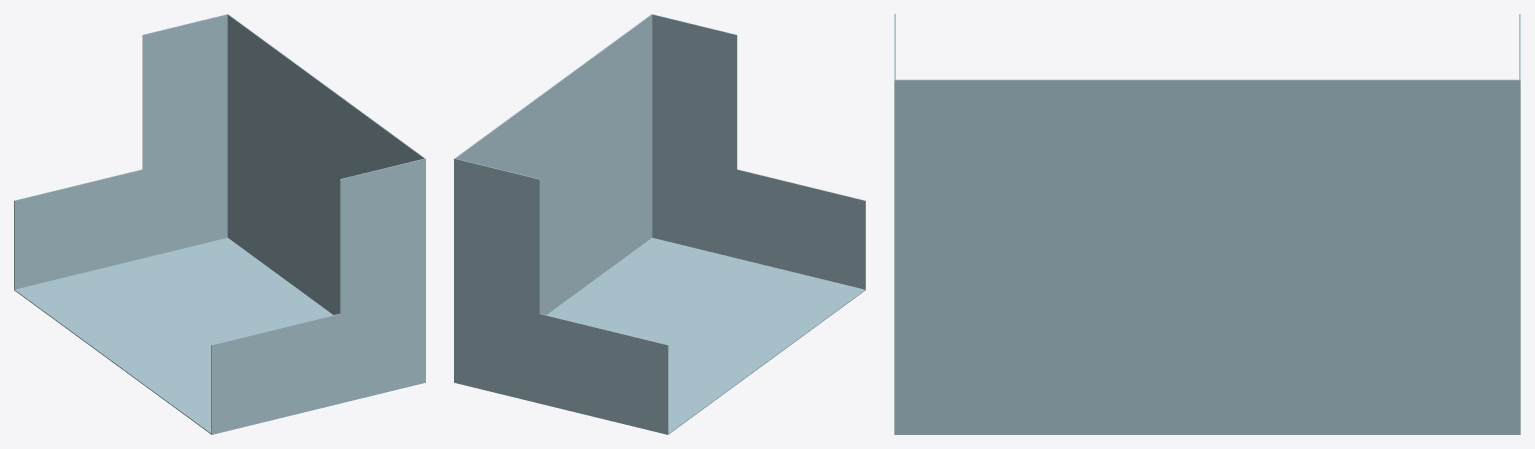
3 renders of one model, left to right at view 1: azimuth 30°, elevation 25°; view 2: azimuth 150°, elevation 25°; view 3: azimuth 270°, elevation 25°, orthographic. The views are drawn at different scales.
Parts seen in each view (by area): view 1: L1-C06; view 2: L1-C06; view 3: L1-C06.
Boxes of the visible parts, x1=… form: L1-C06: x1=14, y1=14, x2=425, y2=434; L1-C06: x1=454, y1=14, x2=865, y2=434; L1-C06: x1=894, y1=14, x2=1520, y2=434.
Bounding box in the file's own units: 0.5 × 0.5 × 0.8.
